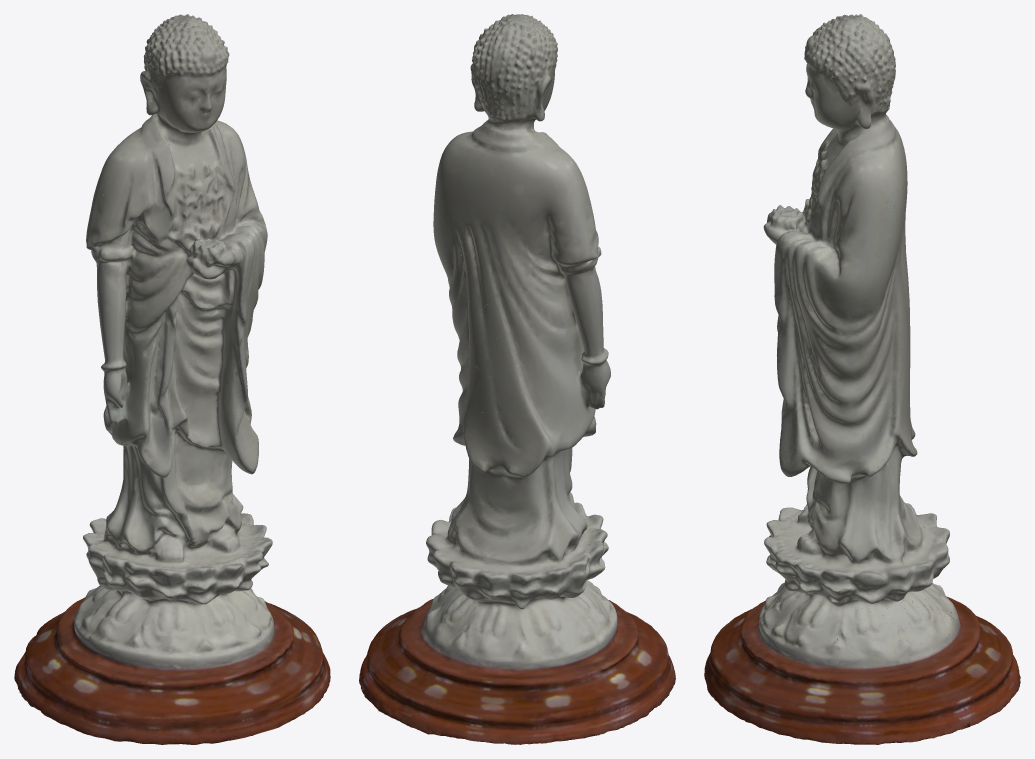
The model's file is amitabha.glb.
3 renders of one model, left to right at view 1: azimuth 30°, elevation 25°; view 2: azimuth 150°, elevation 25°; view 3: azimuth 270°, elevation 25°, orthographic.
Visible parts, largest first — view 1: Object_5, Object_2, Object_3, Object_4, Object_6; view 2: Object_3, Object_2, Object_4, Object_5, Object_6; view 3: Object_4, Object_2, Object_3, Object_6, Object_5.
Part boxes in pixels (x1,y1,x2,y2): Object_5: [84, 140, 272, 604]; Object_2: [14, 286, 330, 744]; Object_3: [86, 14, 328, 690]; Object_4: [83, 15, 272, 576]; Object_6: [16, 16, 330, 744]; Object_3: [359, 15, 605, 735]; Object_2: [359, 279, 675, 744]; Object_4: [426, 14, 603, 609]; Object_5: [426, 133, 610, 607]; Object_6: [359, 14, 674, 744]; Object_4: [763, 16, 949, 606]; Object_2: [705, 532, 1020, 744]; Object_3: [751, 14, 1020, 743]; Object_6: [704, 17, 1020, 744]; Object_5: [766, 128, 949, 603].
Bounding box in the file's own units: 1.86 × 4.29 × 1.85.
Materials: 1 (1 with a texture image).
